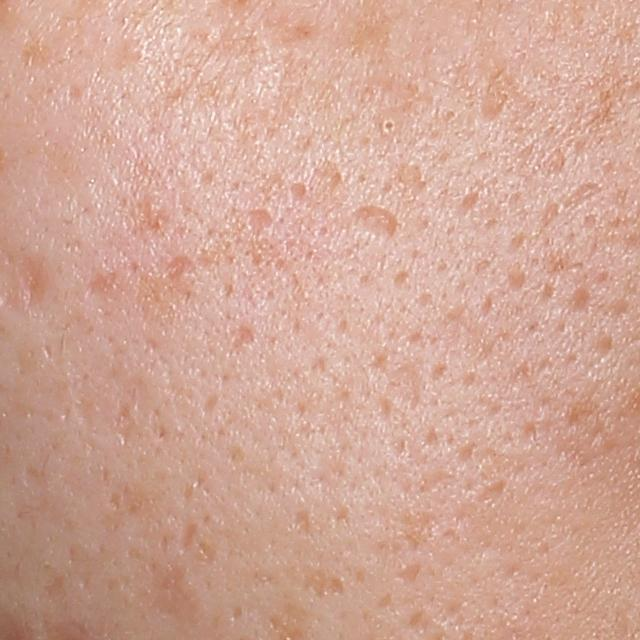atrophic_scar: (378, 358, 429, 416), (556, 177, 609, 218), (298, 565, 349, 598), (79, 272, 121, 309), (395, 162, 432, 201), (240, 203, 277, 241), (226, 321, 259, 357), (472, 479, 510, 507), (293, 508, 317, 542), (567, 286, 592, 318), (182, 523, 202, 554), (393, 560, 421, 580)
comedo: (379, 114, 401, 135)
